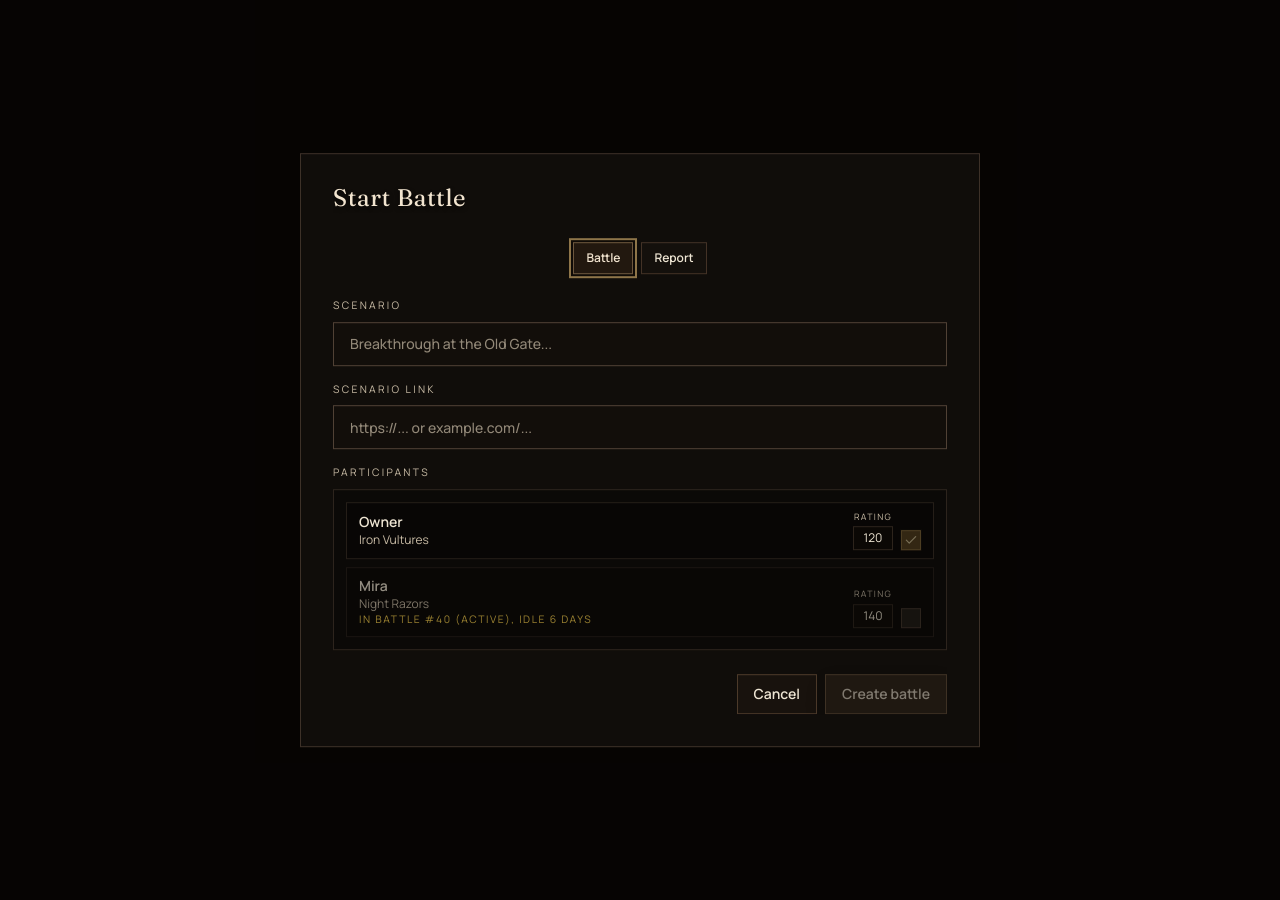
Scenario: StartBattleDialog › creates a battle even when every other player is busy (BUG-10, decision 1)
Click the checkbox next to "140" at (911, 618), box [901,608,921,628]
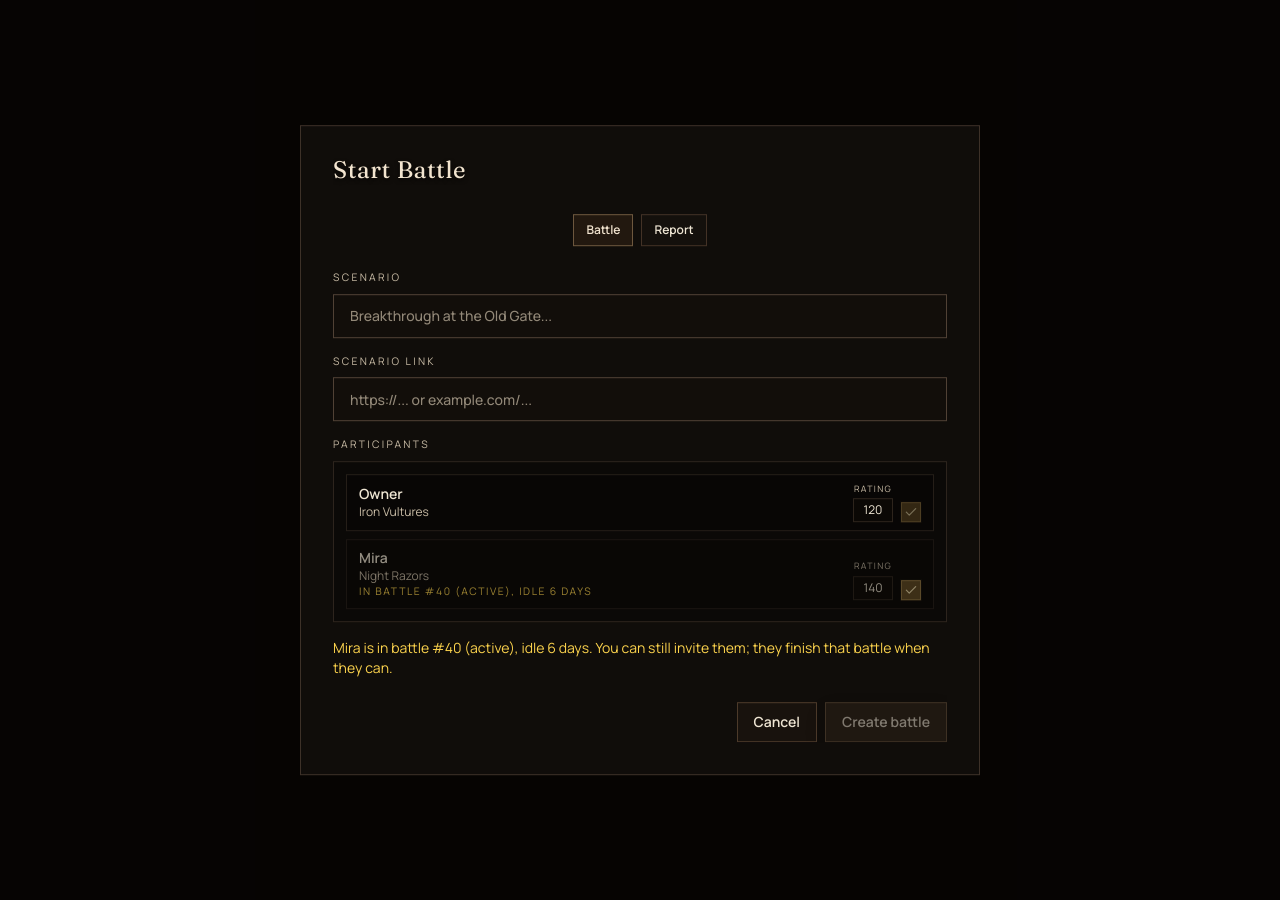
Type "Ambush" into the field with placeholder "Breakthrough at the Old Gate..." at (640, 316), box [333,294,947,338]
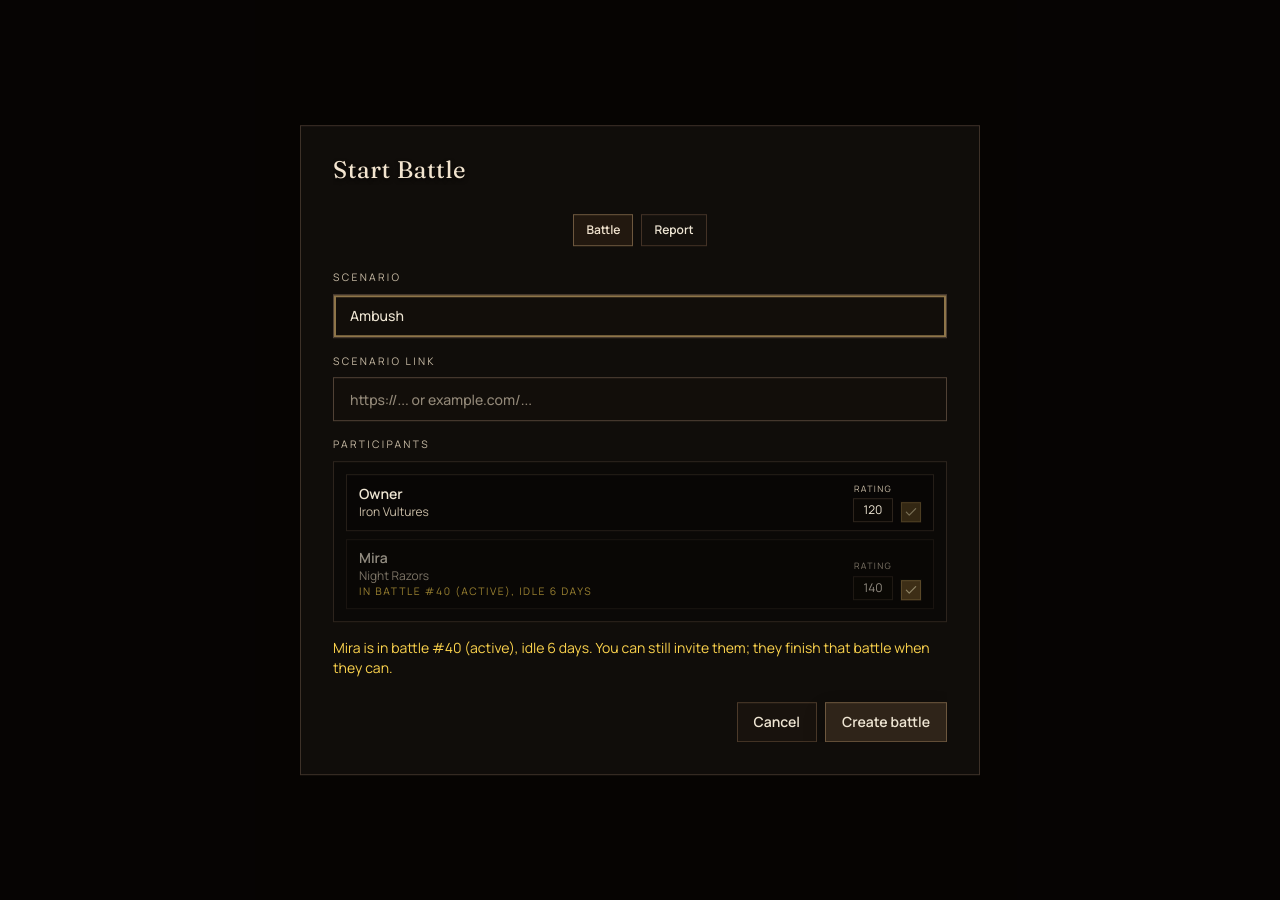
Now the button "Create battle" is enabled, box [825,702,947,742]
